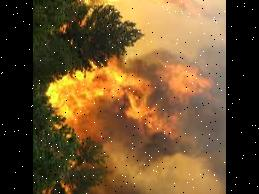fire: (36, 56, 138, 160), (77, 0, 172, 14)
